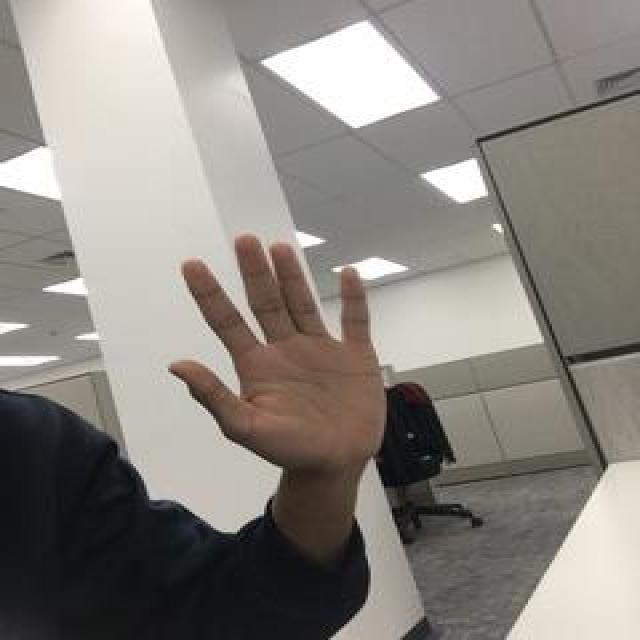hand: (164, 230, 388, 468)
